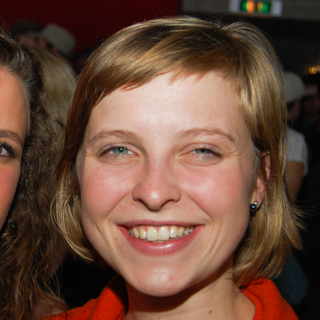eye: (167, 130, 235, 169), (90, 140, 145, 169)
